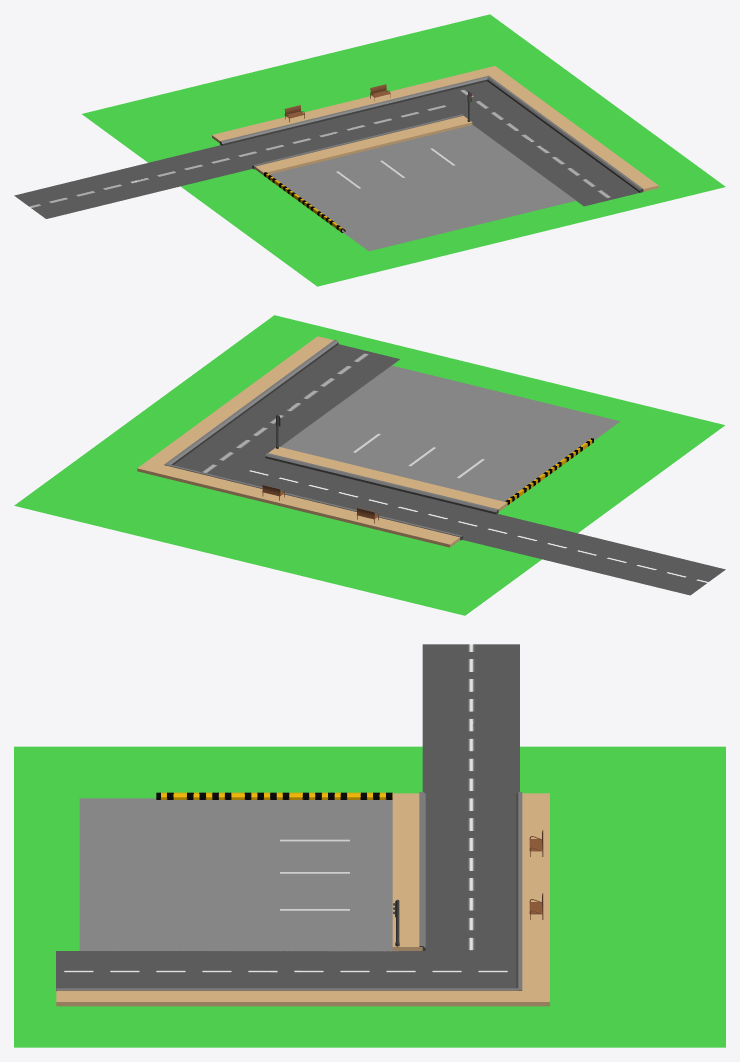
The model's file is Env.fbx.
3 views of the same model, one above another, from view 1: azimuth 30°, elevation 25°; view 2: azimuth 150°, elevation 25°; view 3: azimuth 270°, elevation 25° (orthographic). The views are drawn at different scales.
Parts seen in each view (by area): view 1: Plane, Plane.001, Road.001, Road.002, Road, Footpath, Footpath.002, Cube.002, Cube.004, Cube.008; view 2: Plane, Plane.001, Road.001, Road.002, Road, Footpath, Footpath.002, Cube.002, Cube.004, Cube.008; view 3: Plane, Plane.001, Road.001, Road.002, Road, Footpath.002, Footpath, Cube.002, Cube.008, Cube.004.
Part boxes in pixels (x1,y1,x2,y2): Plane: (82,14,725,286); Plane.001: (270,125,575,251); Road.001: (432,81,639,206); Road.002: (14,145,252,218); Road: (223,95,458,166); Footpath: (212,84,472,175); Footpath.002: (420,66,658,191); Cube.002: (220,75,489,169); Cube.004: (487,76,643,192); Cube.008: (264,172,345,232); Plane: (14,315,724,615); Plane.001: (280,365,619,501); Road.001: (174,344,399,480); Road.002: (462,513,725,595); Road: (235,458,494,536); Footpath: (220,447,507,547); Footpath.002: (137,336,333,491); Cube.002: (164,453,498,540); Cube.004: (166,340,338,465); Cube.008: (505,438,593,504); Plane: (14,746,725,1047); Plane.001: (79,798,397,951); Road.001: (56,951,515,991); Road.002: (422,644,519,797); Road: (425,797,515,950); Footpath.002: (56,947,549,1006); Footpath: (392,793,549,950); Cube.002: (419,792,522,990); Cube.008: (156,792,392,799); Cube.004: (56,988,518,990).
Bounding box in the file's own units: 5156 × 309 × 3870.
